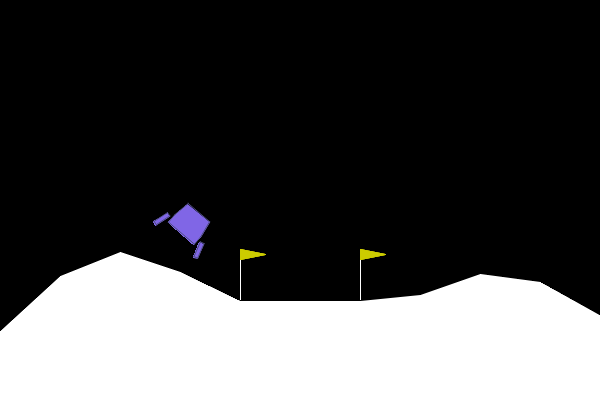lander: (151, 192, 223, 261)
